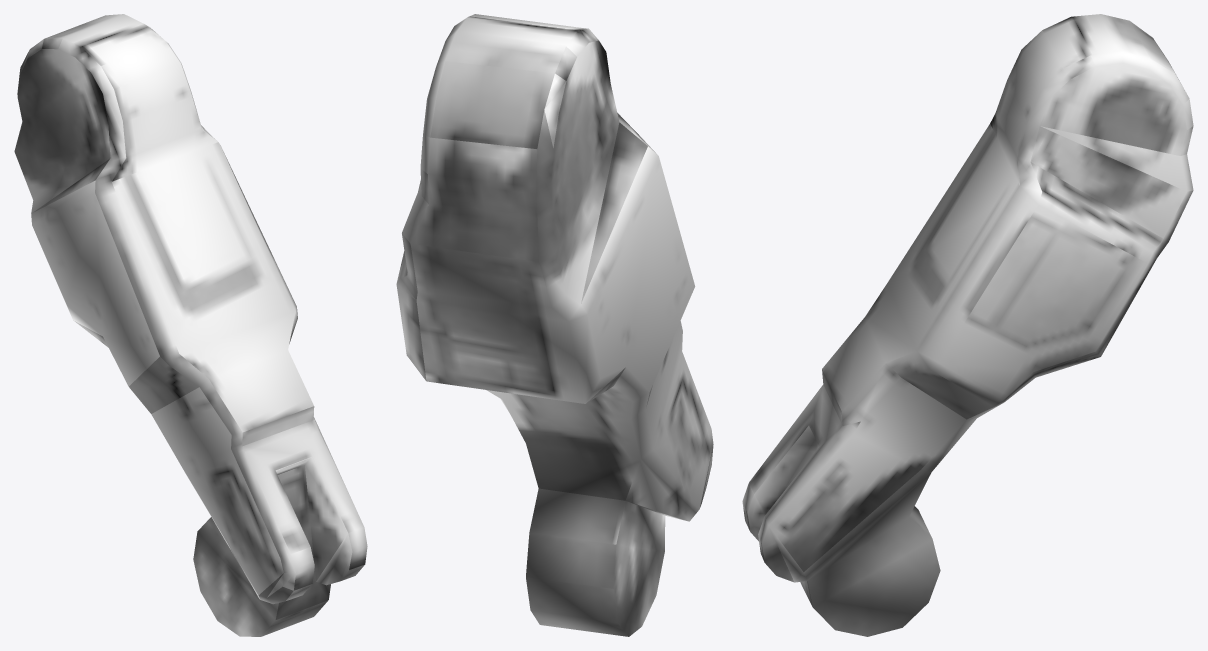
The model's file is fl_shin.glb.
3 views of the same model, side by side, from view 1: azimuth 30°, elevation 25°; view 2: azimuth 150°, elevation 25°; view 3: azimuth 270°, elevation 25° (orthographic). The views are drawn at different scales.
Parts seen in each view (by area): view 1: fl_shin; view 2: fl_shin; view 3: fl_shin.
Part boxes in pixels (x1=…): fl_shin: x1=14, y1=14, x2=367, y2=636; fl_shin: x1=396, y1=14, x2=713, y2=636; fl_shin: x1=742, y1=14, x2=1193, y2=636.
Size of the model in its own units: 0.4417 by 1.23 by 0.8937.
3 materials, 3 textured.
